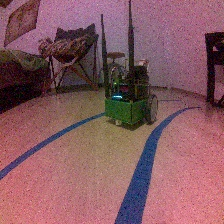rob: (103, 64, 159, 126)
